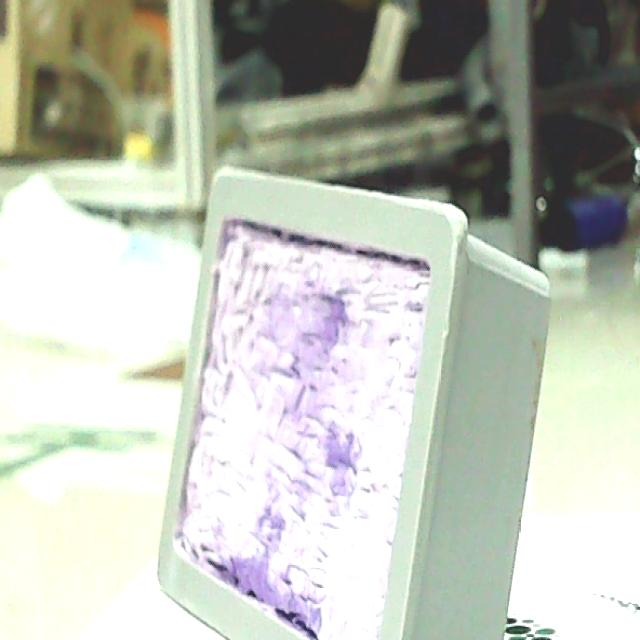block: (147, 166, 546, 640)
